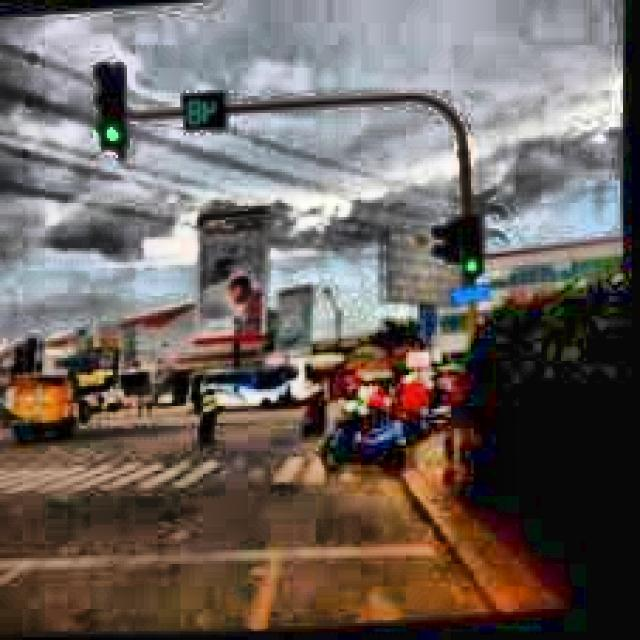green: (95, 63, 131, 151), (458, 217, 489, 285)
